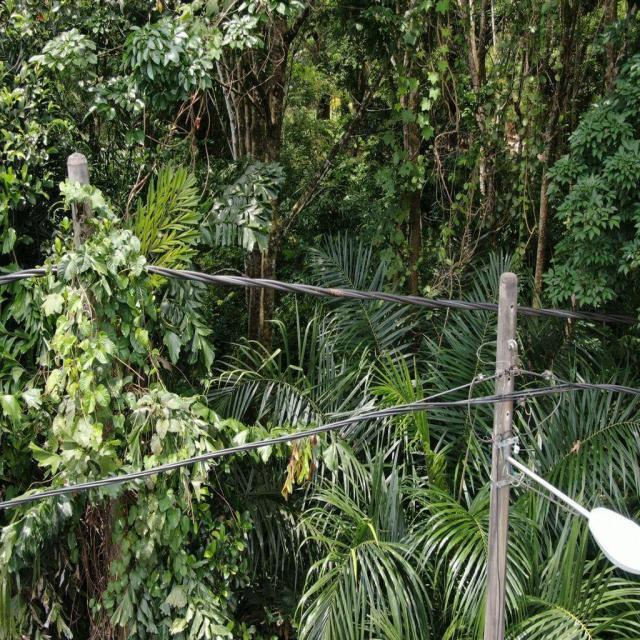critical vegetation: (45, 169, 158, 640)
